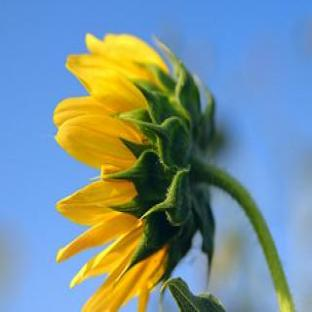sunflower: (52, 34, 296, 312)
